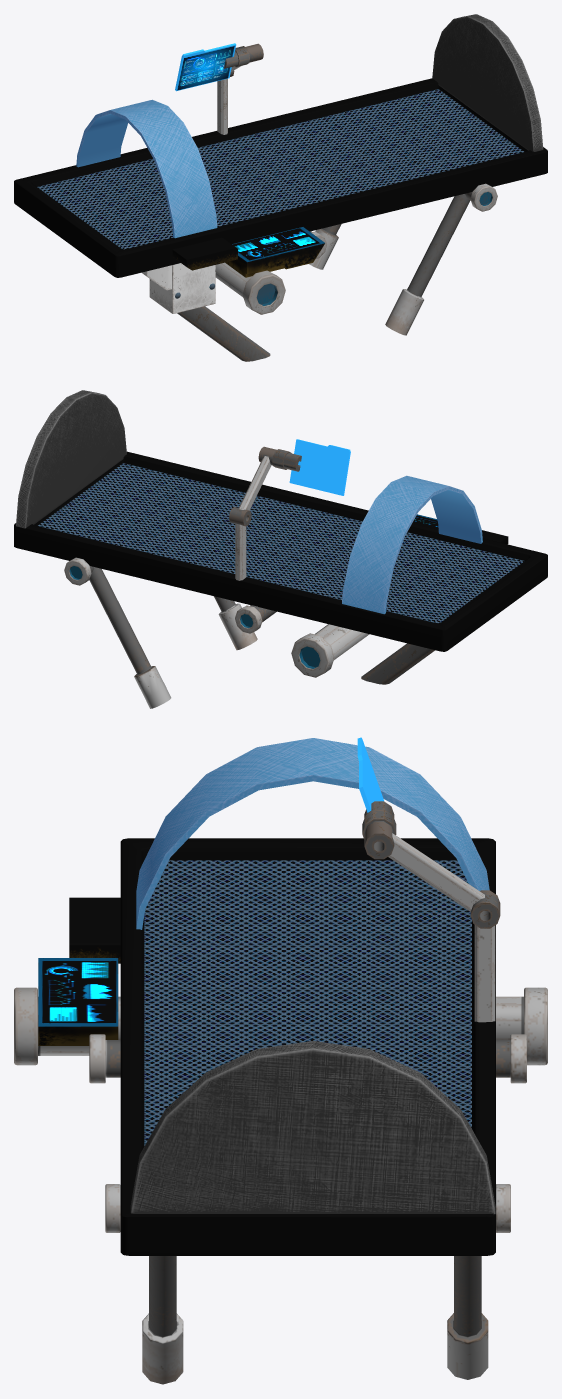
The model's file is camaV5_Blender.fbx.
3 views of the same model, one above another, from view 1: azimuth 30°, elevation 25°; view 2: azimuth 150°, elevation 25°; view 3: azimuth 270°, elevation 25° (orthographic). The views are drawn at different scales.
Parts seen in each view (by area): view 1: Cama_Hospital_V2_UV:Cama_salamedica_V2; view 2: Cama_Hospital_V2_UV:Cama_salamedica_V2; view 3: Cama_Hospital_V2_UV:Cama_salamedica_V2.
Part boxes in pixels (box(x1,y1,x2,y2)): Cama_Hospital_V2_UV:Cama_salamedica_V2: box(14, 14, 547, 361); Cama_Hospital_V2_UV:Cama_salamedica_V2: box(14, 390, 547, 708); Cama_Hospital_V2_UV:Cama_salamedica_V2: box(14, 737, 547, 1384).
Size of the model in its own units: 303 by 187 by 180.
6 materials, 6 textured.
